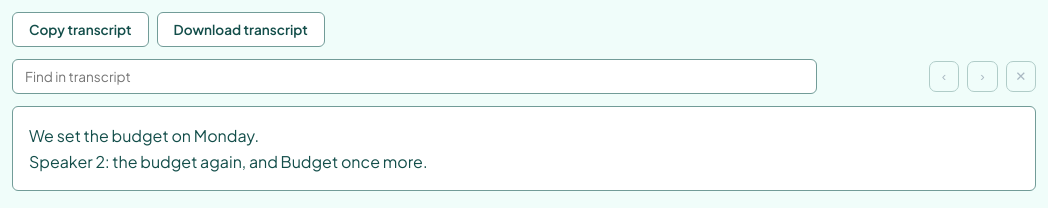
Test: 52-A: steps to the next match
In the field labelled "Find in transcript": (414, 76) [12,59,817,94], type "budget"
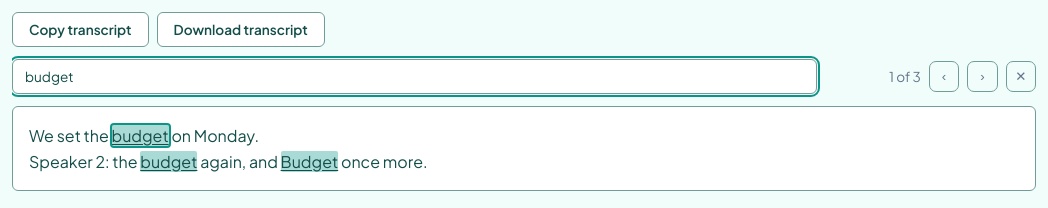
Click the button named "Next match": (982, 76) [967,61,998,92]
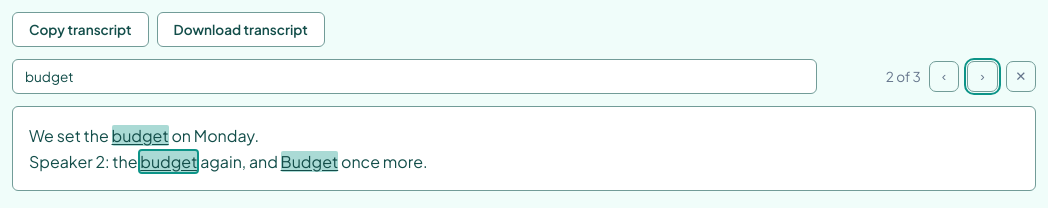
Expected: the message with test id "transcript-find-count" reads "2 of 3", [886,68,921,85]
